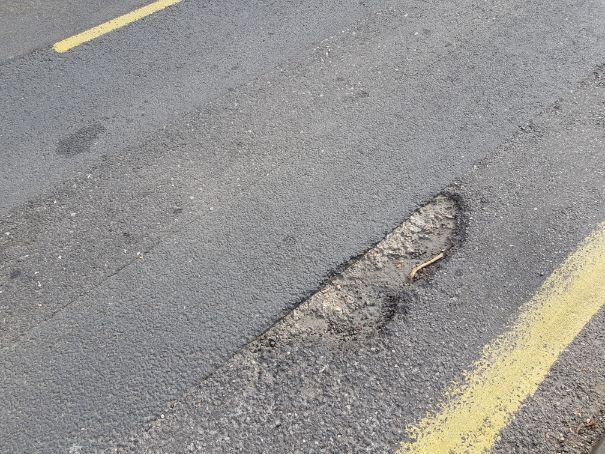pothole: (244, 184, 475, 356)
